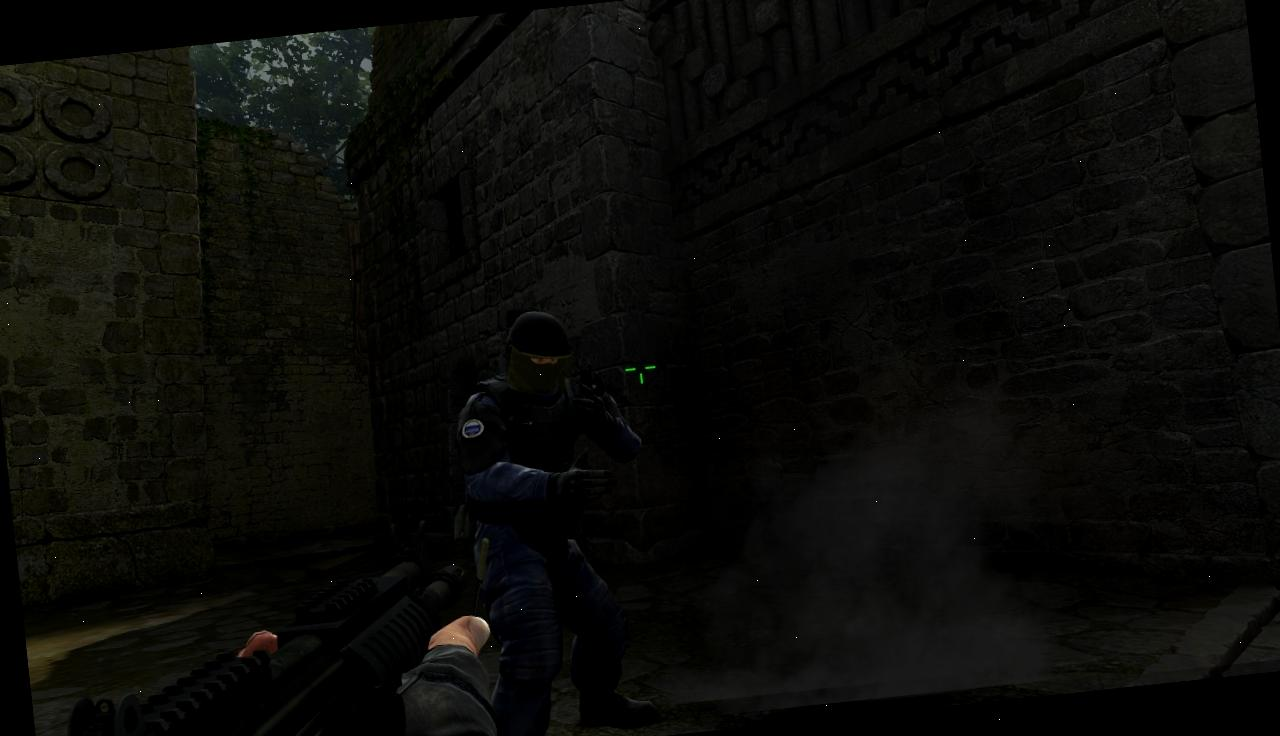ct: (453, 306, 638, 736)
cthead: (503, 306, 577, 395)
rifle: (17, 518, 490, 736)
